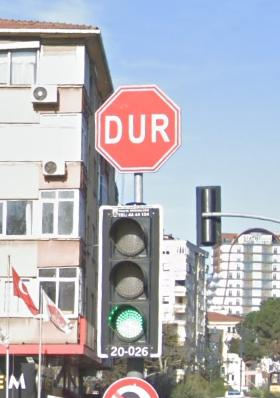greenlight: (104, 207, 153, 339)
stop: (97, 87, 181, 172)
